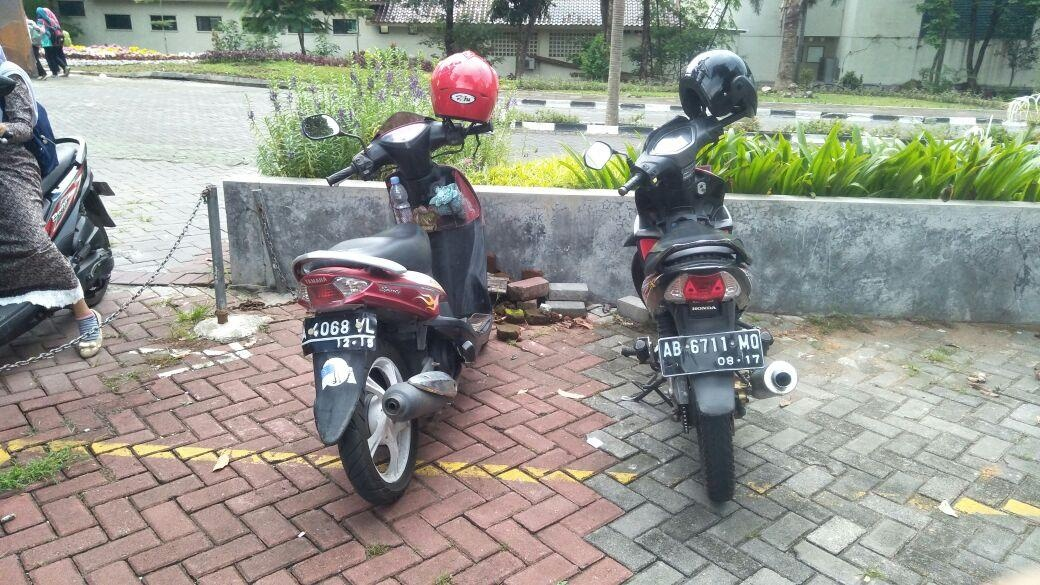plate: (655, 330, 780, 380), (285, 303, 391, 360)
